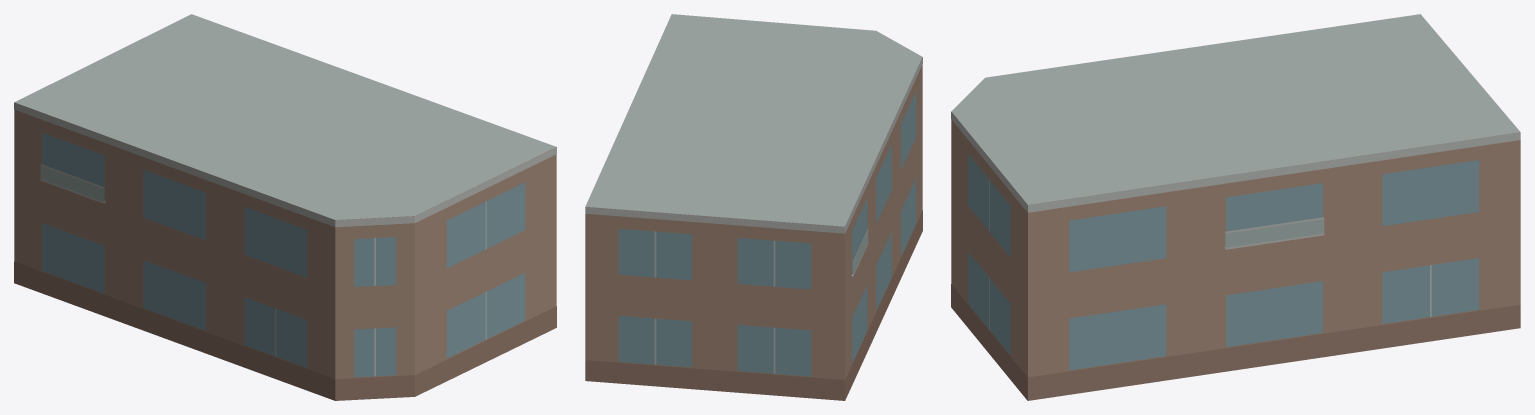
Rendered from survey-upis-32802334.glb.
3 renders of one model, left to right at view 1: azimuth 30°, elevation 25°; view 2: azimuth 150°, elevation 25°; view 3: azimuth 270°, elevation 25°, orthographic. The views are drawn at different scales.
Visible parts, largest first — view 1: survey-upis-32802334.tmp; view 2: survey-upis-32802334.tmp; view 3: survey-upis-32802334.tmp.
Boxes of the visible parts, x1,y1,x2,y2 form: survey-upis-32802334.tmp: [14, 14, 556, 400]; survey-upis-32802334.tmp: [585, 14, 922, 400]; survey-upis-32802334.tmp: [951, 14, 1520, 400].
Size of the model in its own units: 12.76 by 6.1 by 16.08.
